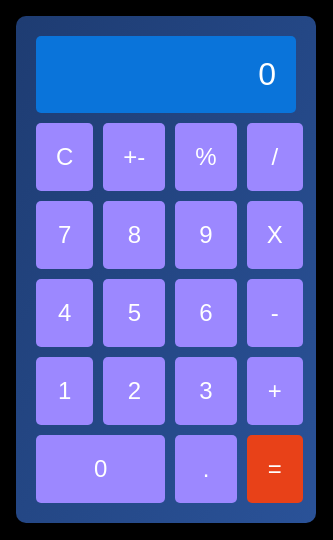
Calculator handles +/- operation
Click the button "5" at (134, 313), box left=103, top=279, right=165, bottom=347
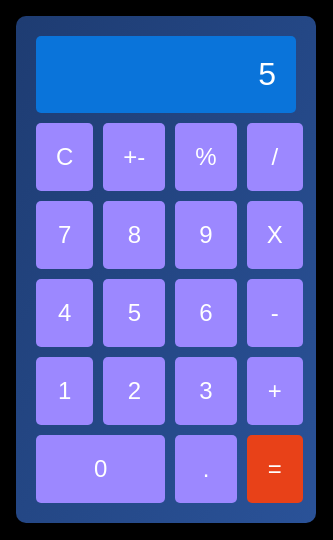
Click the button "+-" at (134, 157), box left=103, top=123, right=165, bottom=191
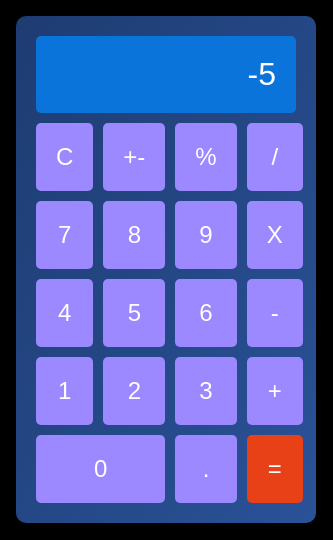
Now the text with test id "display" reads "-5", box left=248, top=56, right=276, bottom=92
